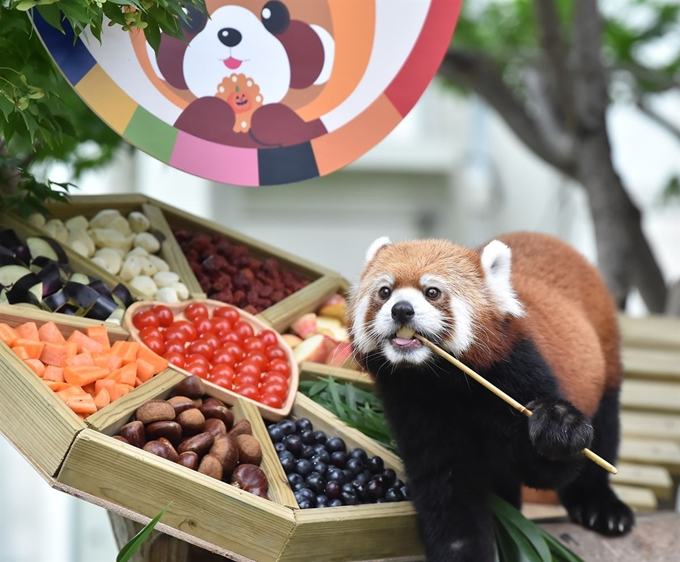redPanda: (353, 218, 635, 550)
